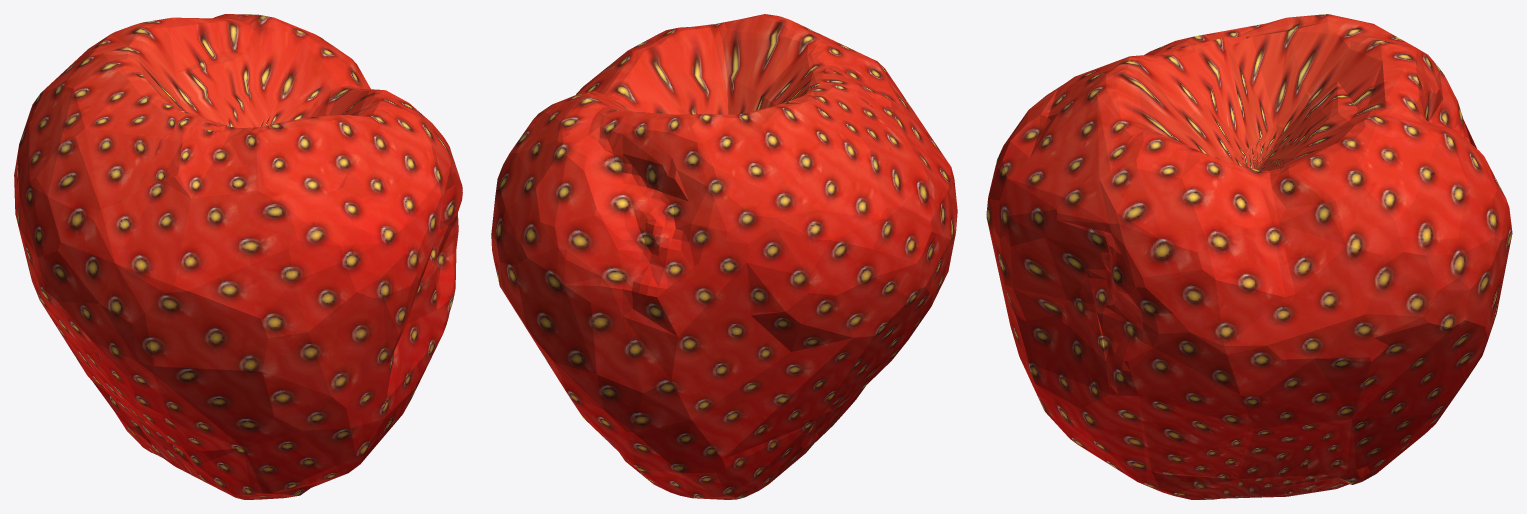
The picture shows the model from 3 angles, left to right: view 1: azimuth 30°, elevation 25°; view 2: azimuth 150°, elevation 25°; view 3: azimuth 270°, elevation 25°; orthographic projection. The views are drawn at different scales.
Parts seen in each view (by area): view 1: _003_Meshed; view 2: _003_Meshed; view 3: _003_Meshed.
Part boxes in pixels (left/top/right/bottom): _003_Meshed: left=14, top=14, right=462, bottom=499; _003_Meshed: left=491, top=14, right=957, bottom=499; _003_Meshed: left=986, top=14, right=1512, bottom=499.
Size of the model in its own units: 0.0971 by 0.1082 by 0.0983.
1 material, 1 textured.
